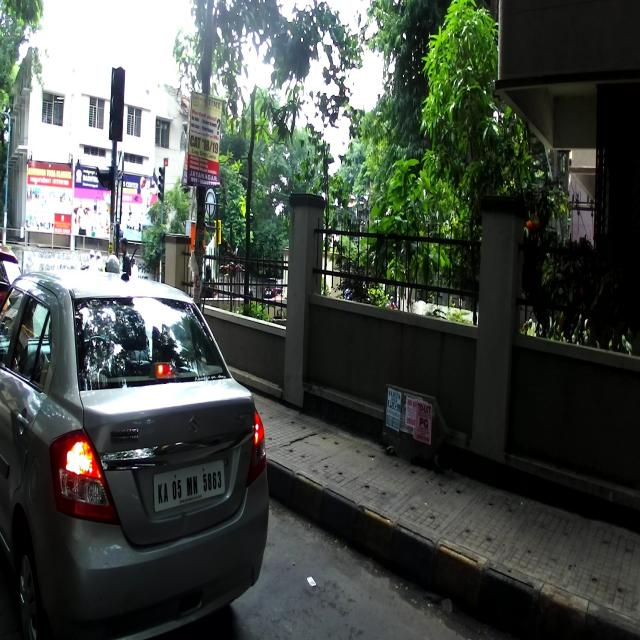Car_Maruti-Suzuki: (0, 268, 269, 640)
